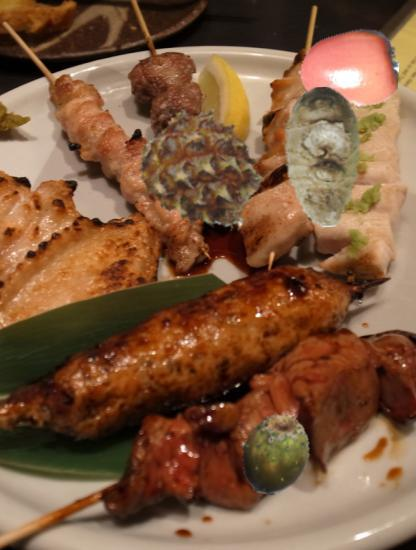Cactus: (231, 412, 316, 497)
Ginger: (253, 87, 394, 228)
Kaki: (299, 17, 400, 118)
Pineapple: (140, 105, 268, 233)
